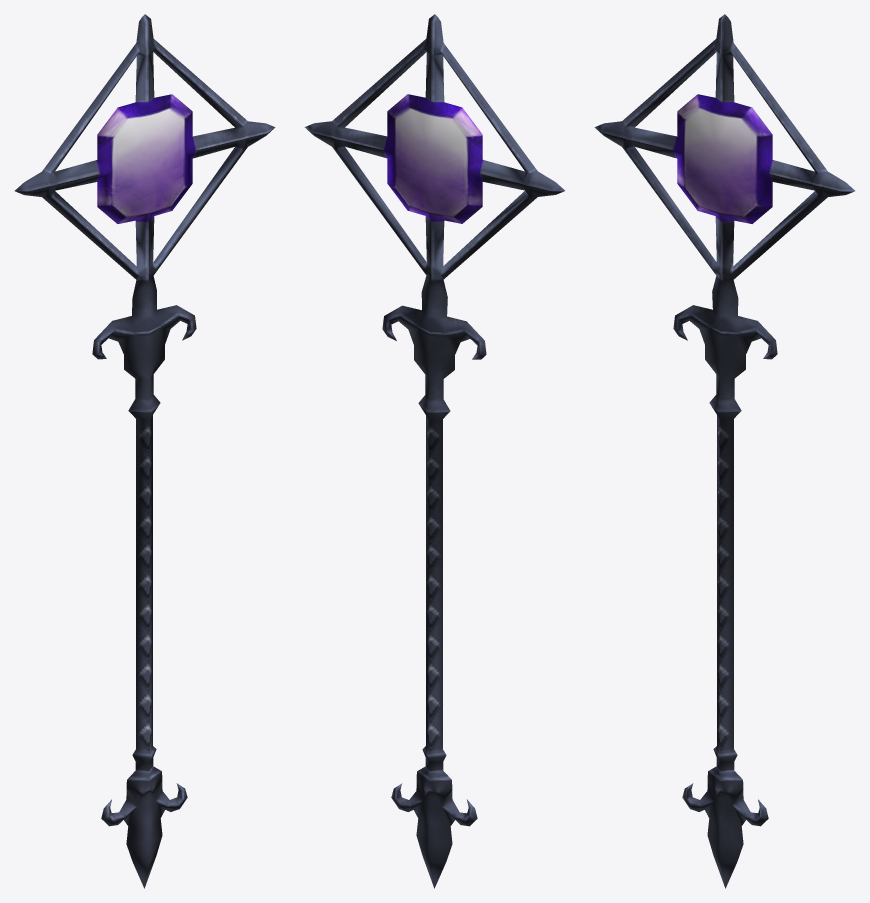
File: staff10.fbx
3 views of the same model, side by side, from view 1: azimuth 30°, elevation 25°; view 2: azimuth 150°, elevation 25°; view 3: azimuth 330°, elevation 25° (orthographic).
Visible parts, largest first — view 1: Staff10; view 2: Staff10; view 3: Staff10.
Part boxes in pixels (x1,y1,x2,y2): Staff10: (15, 14, 275, 888); Staff10: (304, 14, 564, 888); Staff10: (594, 14, 854, 888).
Bounding box in the file's own units: 0.5436 × 1.74 × 0.0537.
